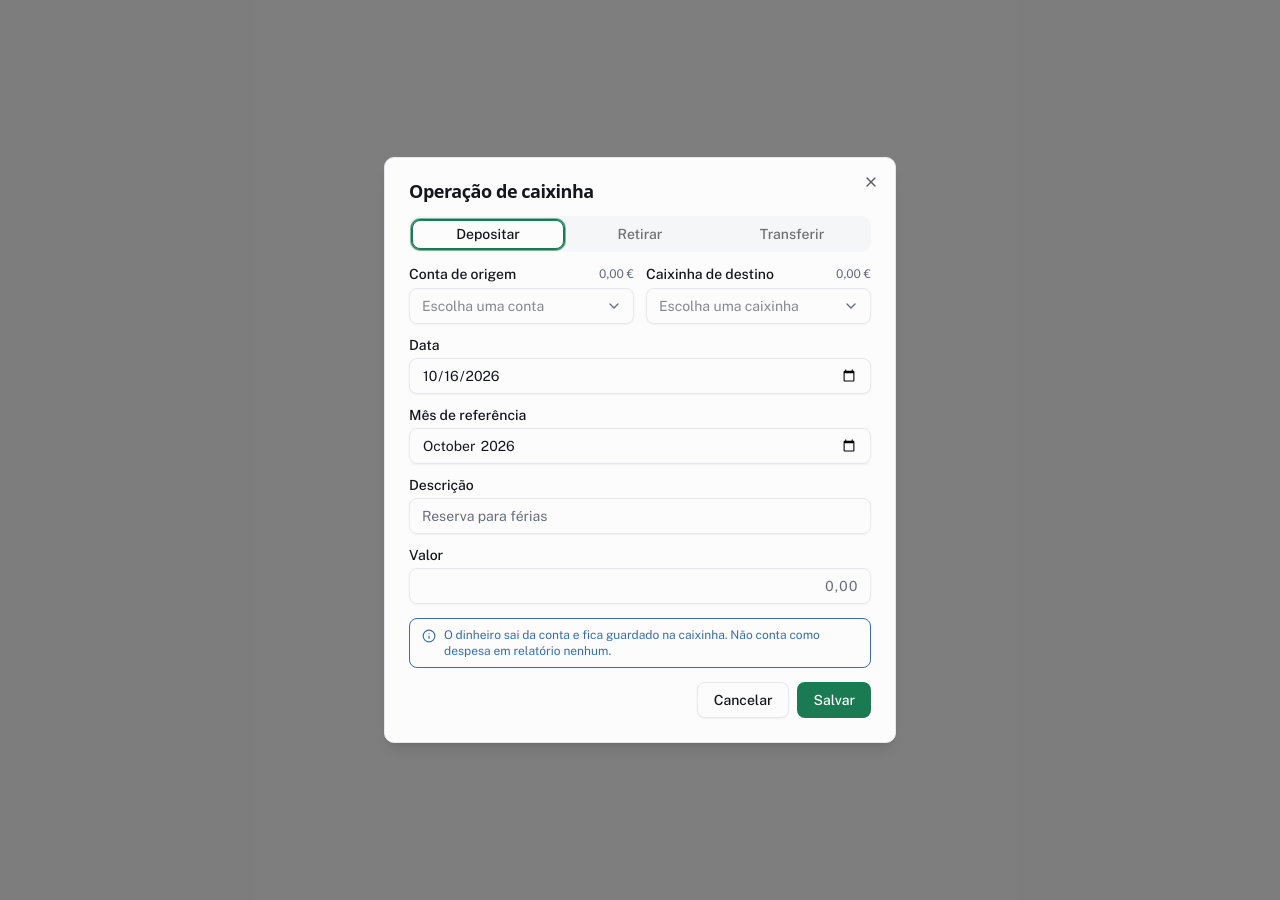
Test: CashboxOperationDialog › shows the selected balance beside both selectors
Click the dropdown labelled "Conta de origem" at (522, 306), box [409,288,634,324]
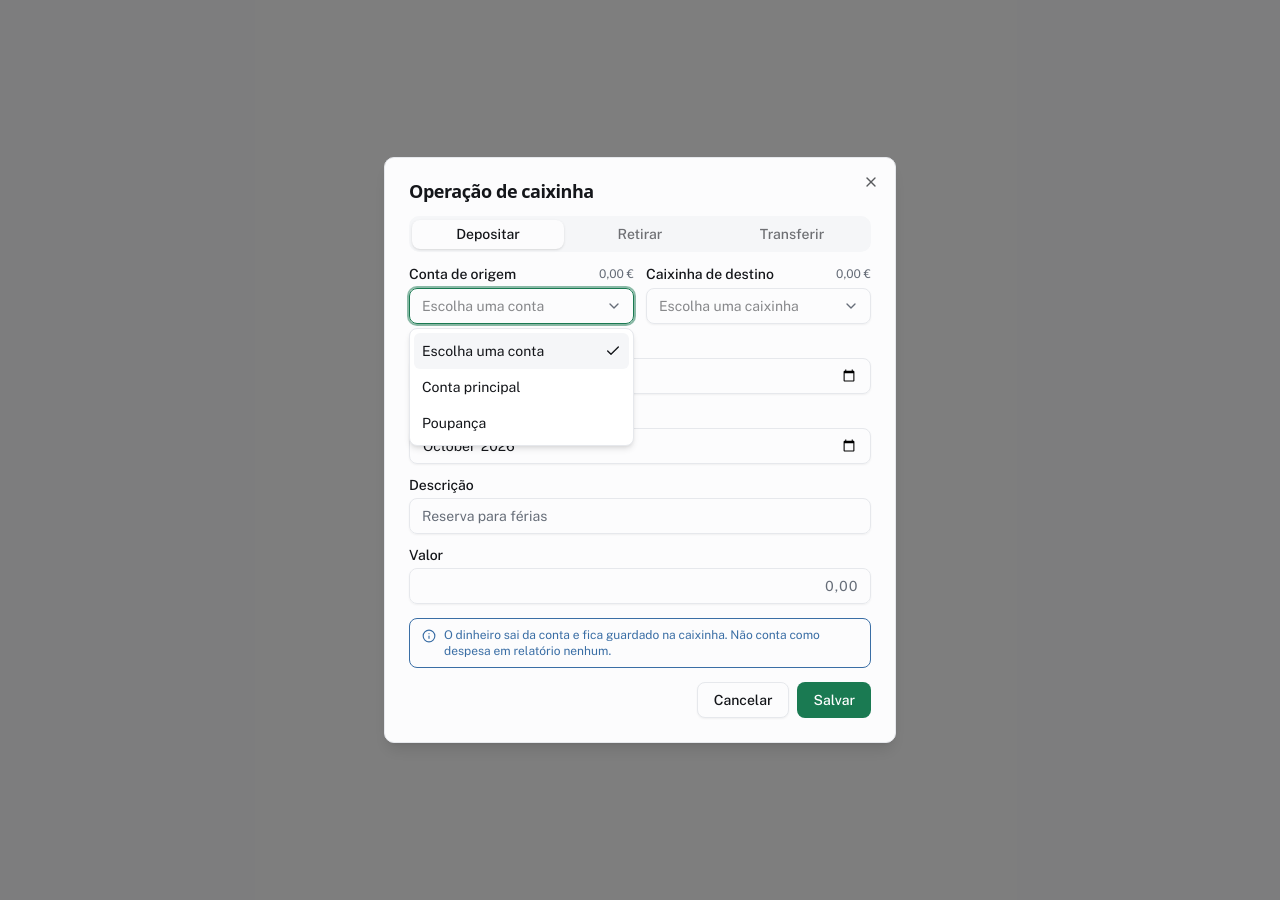
Click the option "Conta principal" at (471, 387), box [422,379,521,395]
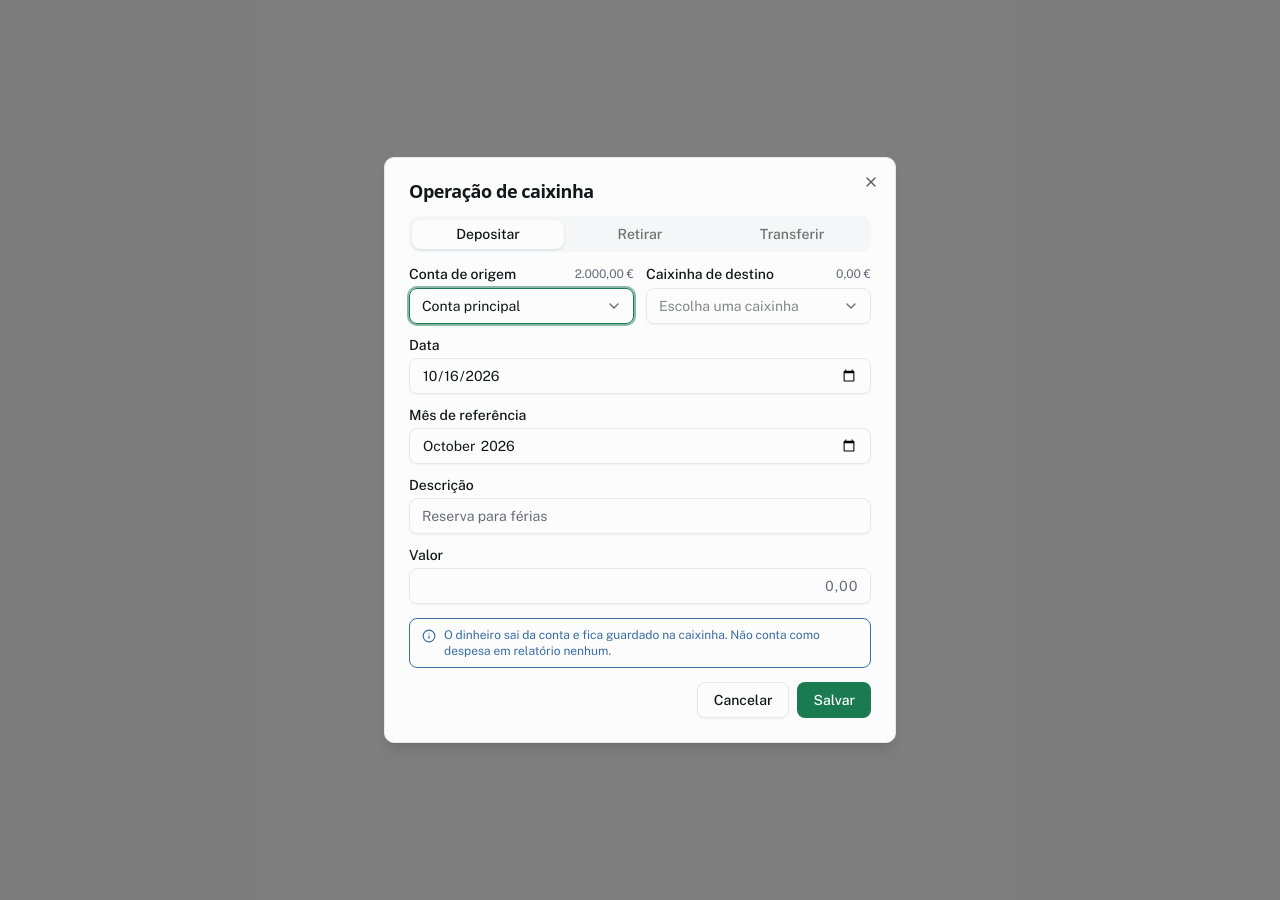
Click the dropdown labelled "Caixinha de destino" at (758, 306), box [646,288,871,324]
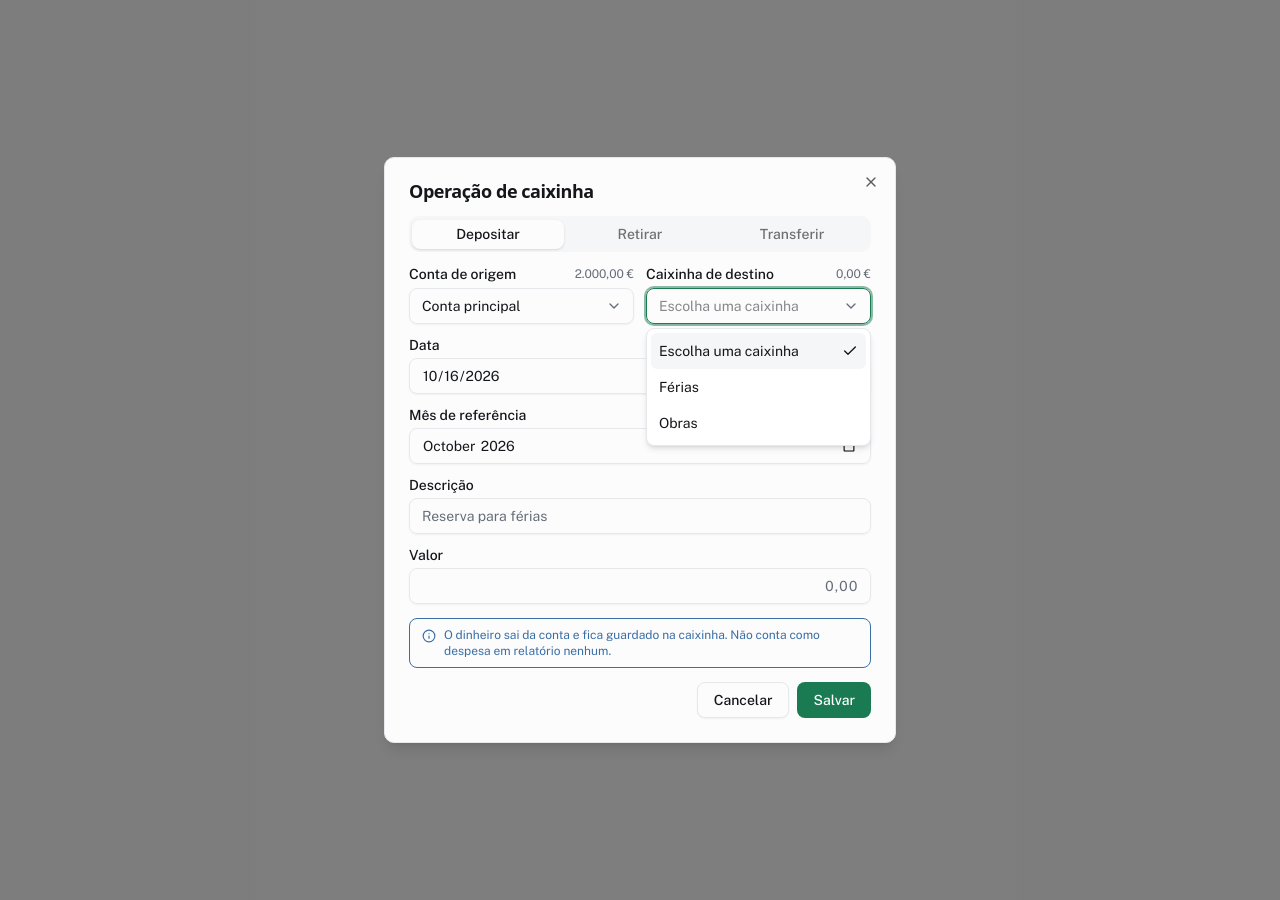
Click the option "Férias" at (679, 387), box [659,379,699,395]
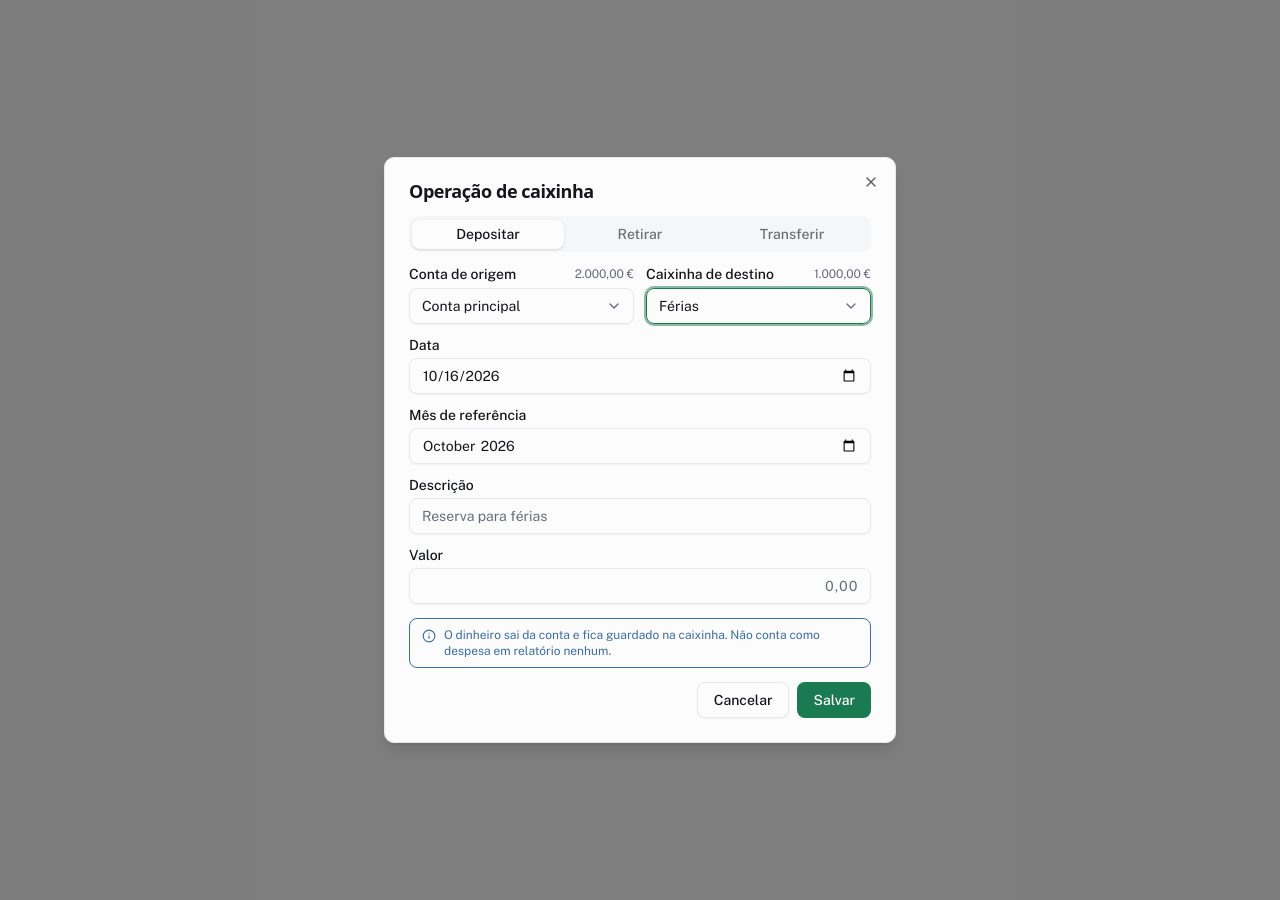
Expected: the text "2.000,00 €" is shown, [575,266,634,282]
Expected: the text "1.000,00 €" is shown, [814,266,871,282]
